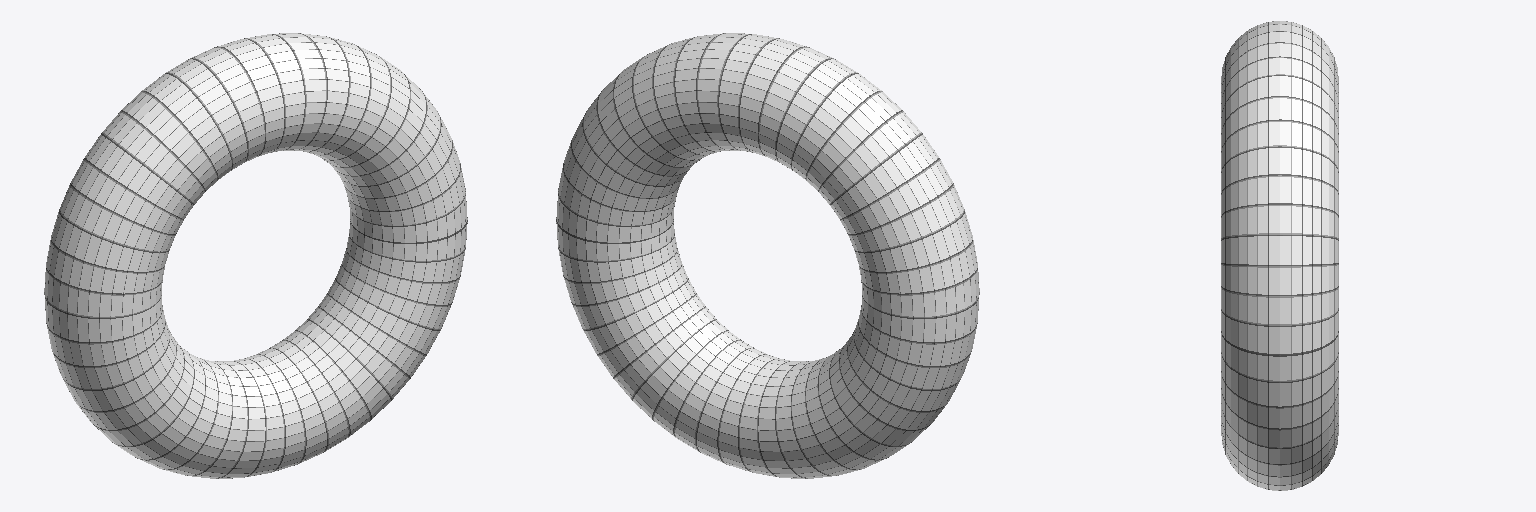
3 views of the same model, side by side, from view 1: azimuth 30°, elevation 25°; view 2: azimuth 150°, elevation 25°; view 3: azimuth 270°, elevation 25° (orthographic).
Parts seen in each view (by area): view 1: Torus; view 2: Torus; view 3: Torus.
Part boxes in pixels (left/top/right/bottom): Torus: left=44, top=33, right=467, bottom=478; Torus: left=556, top=33, right=979, bottom=478; Torus: left=1221, top=21, right=1338, bottom=490.
Size of the model in its own units: 1 by 1 by 0.25.
Materials: 1 (1 with a texture image).